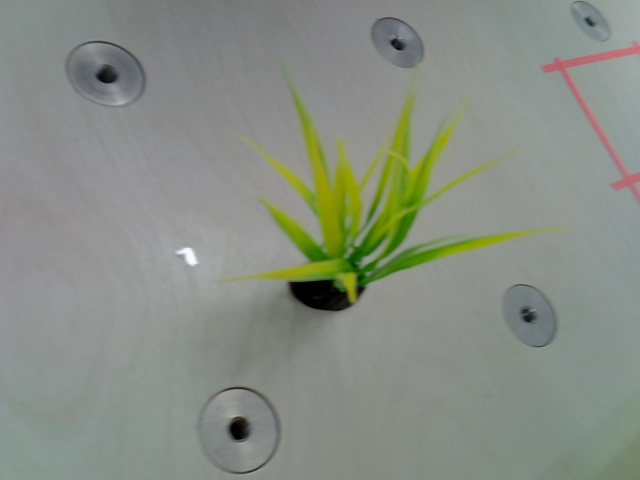해바라기새싹: (235, 73, 533, 314)
